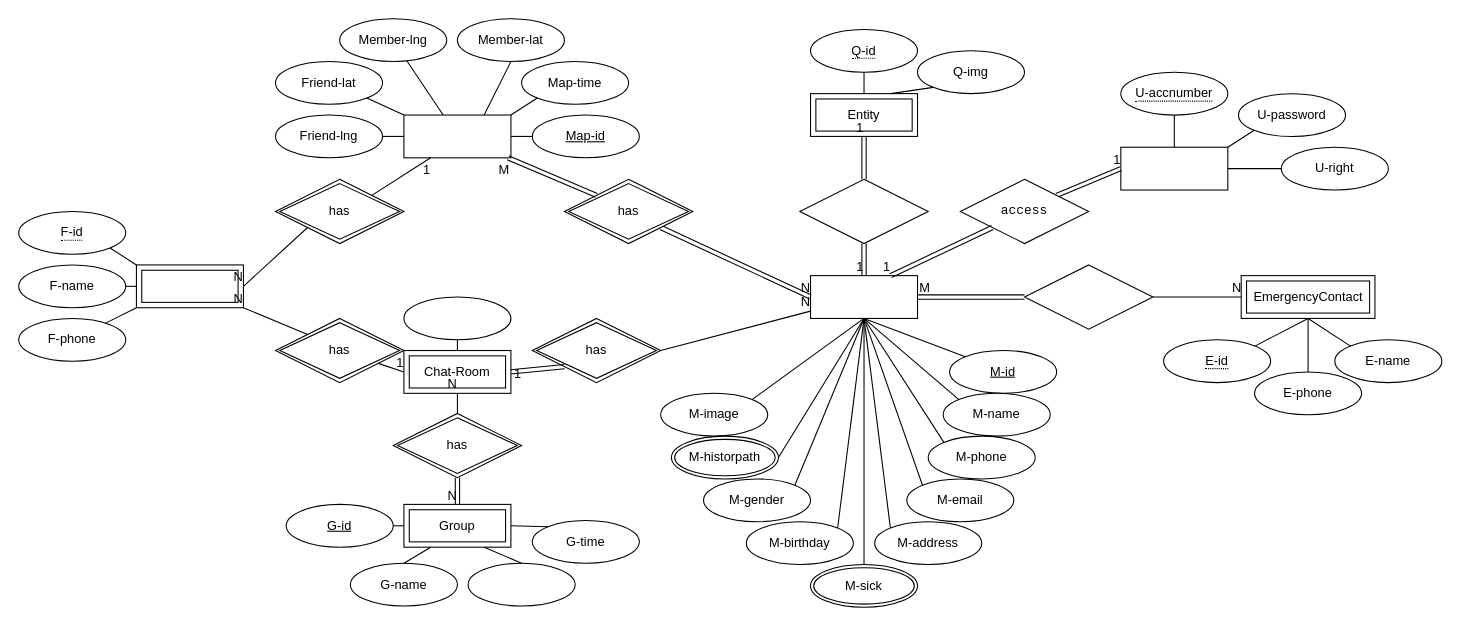
The diagram is 1461 pixels wide and 633 high, and some of its shapes have lost their labels. Each missing label, with the centre of its shape:
C-id: point (457, 318)
contact: point (1088, 296)
Friend: point (189, 286)
G-text: point (521, 584)
map: point (457, 136)
Member: point (863, 296)
produce: point (863, 211)
User_permissions: point (1174, 168)
